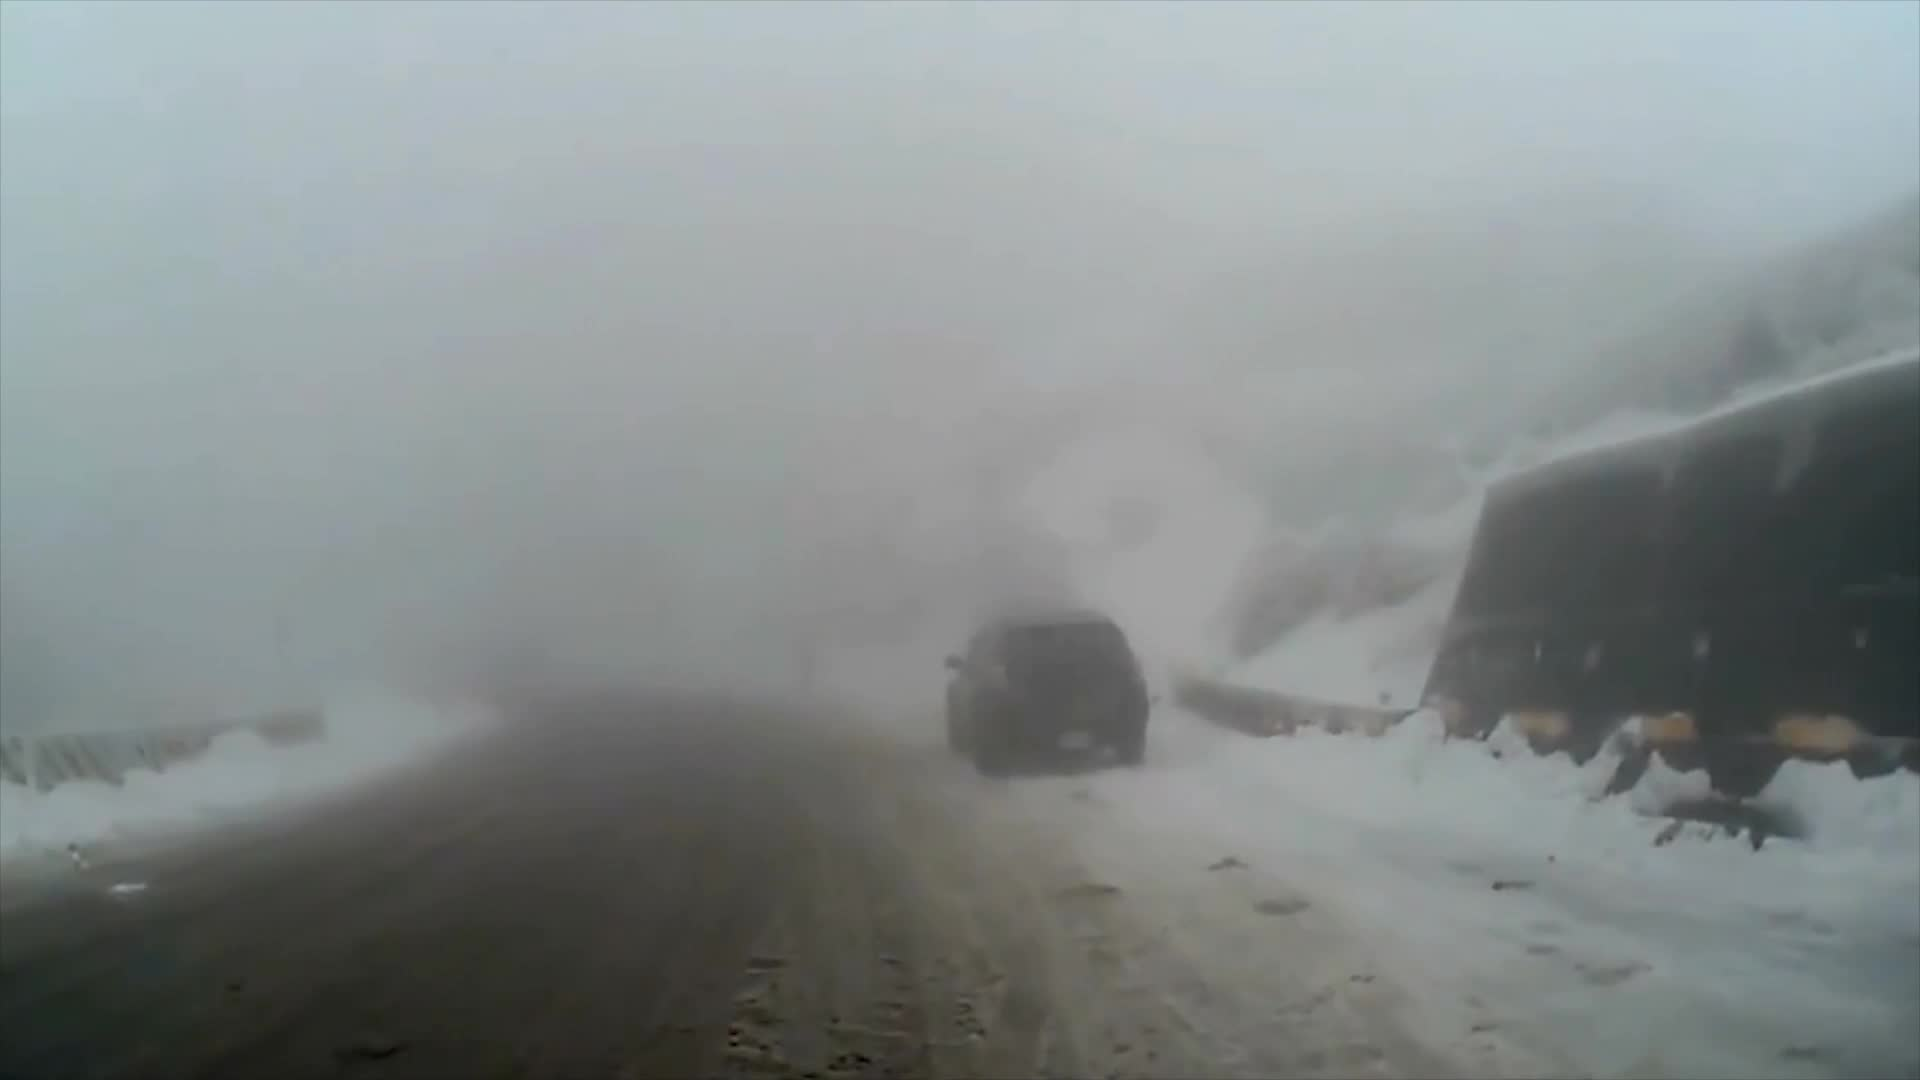vehicle: (942, 607, 1149, 778)
